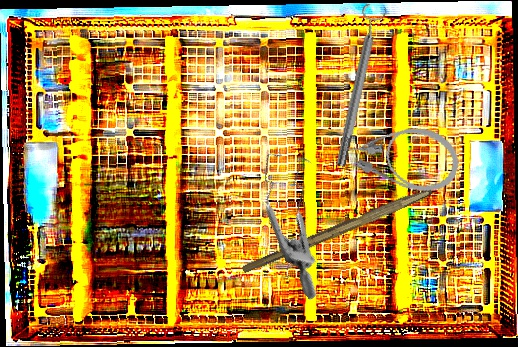Cannula: (337, 108, 466, 201)
Fixation Ring: (326, 2, 390, 169)
Scalpel Handle: (240, 182, 434, 278)
Speculum: (218, 136, 380, 301)
